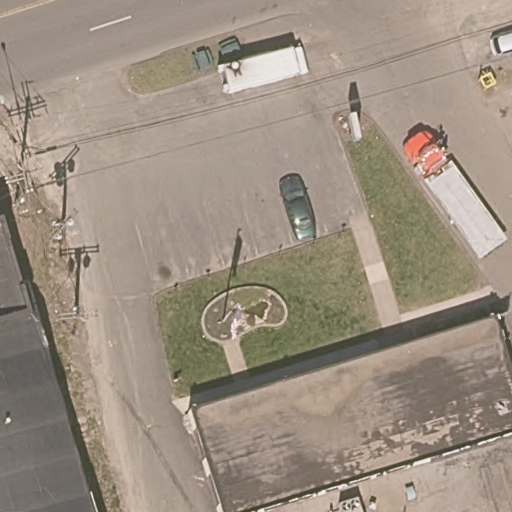DT: (3, 164, 35, 191)
